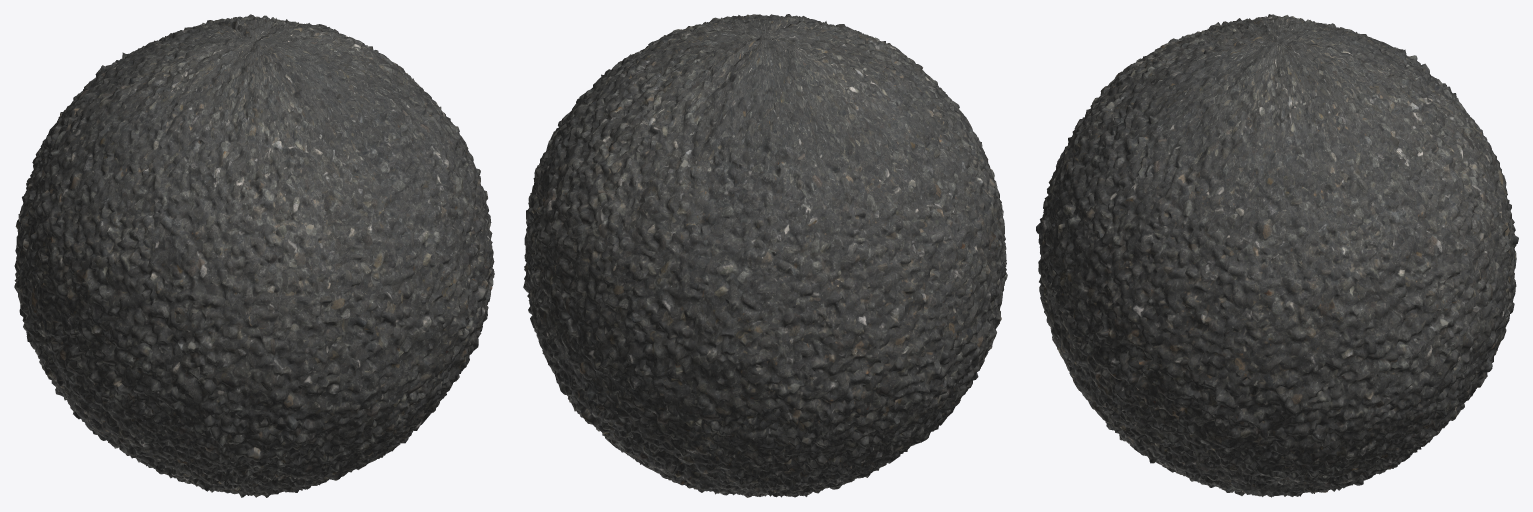
Rendered from gravel_stones_2k.gltf.
3 views of the same model, side by side, from view 1: azimuth 30°, elevation 25°; view 2: azimuth 150°, elevation 25°; view 3: azimuth 270°, elevation 25° (orthographic).
Parts seen in each view (by area): view 1: sphere_gltf; view 2: sphere_gltf; view 3: sphere_gltf.
Part boxes in pixels (<box>): sphere_gltf: <box>14,14,494,497</box>; sphere_gltf: <box>523,14,1007,497</box>; sphere_gltf: <box>1036,14,1518,497</box>.
Bounding box in the file's own units: 2.06 × 2.07 × 2.06.
Materials: 1 (1 with a texture image).
